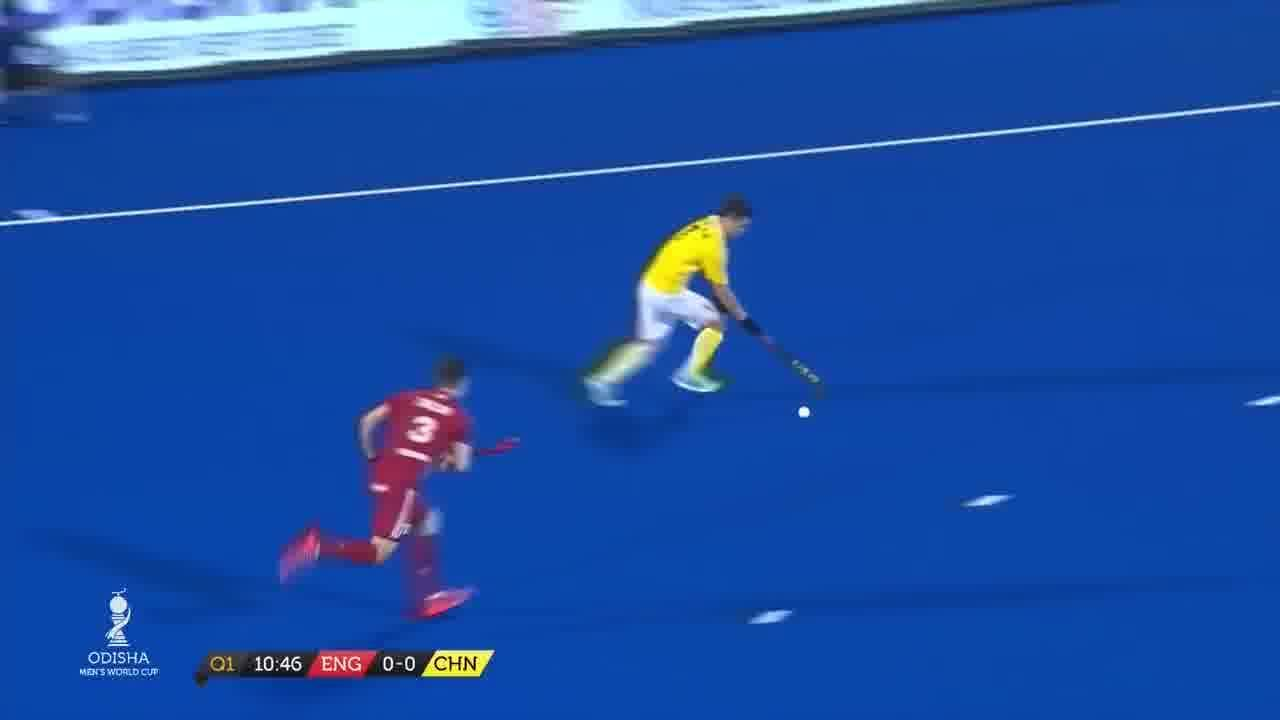ball: (790, 402, 816, 426)
